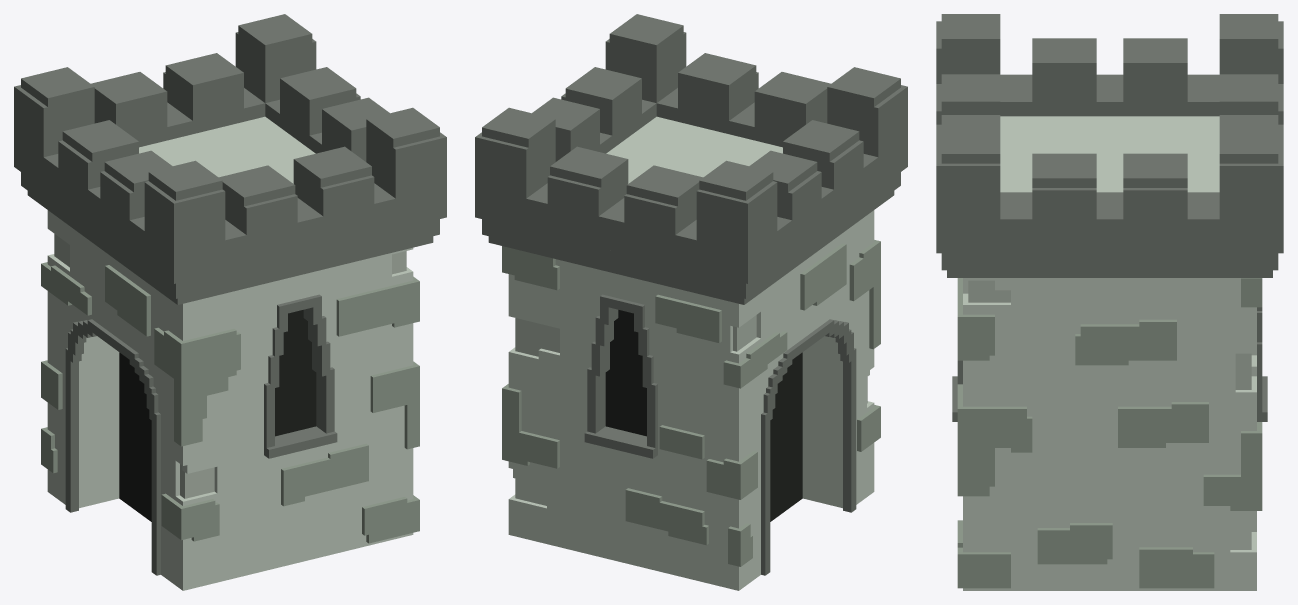
File: barracks#2.obj
3 renders of one model, left to right at view 1: azimuth 30°, elevation 25°; view 2: azimuth 150°, elevation 25°; view 3: azimuth 270°, elevation 25°, orthographic. The views are drawn at different scales.
Size of the model in its own units: 6.4 by 9.2 by 6.5.
1 material, 1 textured.
